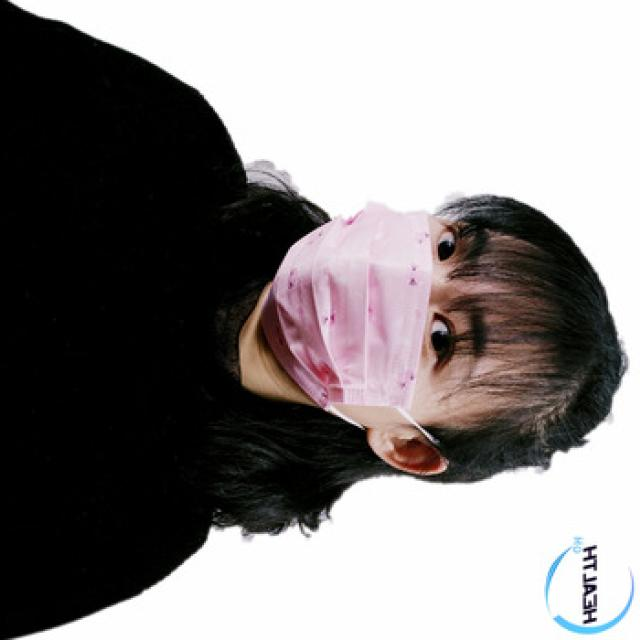with_mask: (269, 205, 499, 426)
